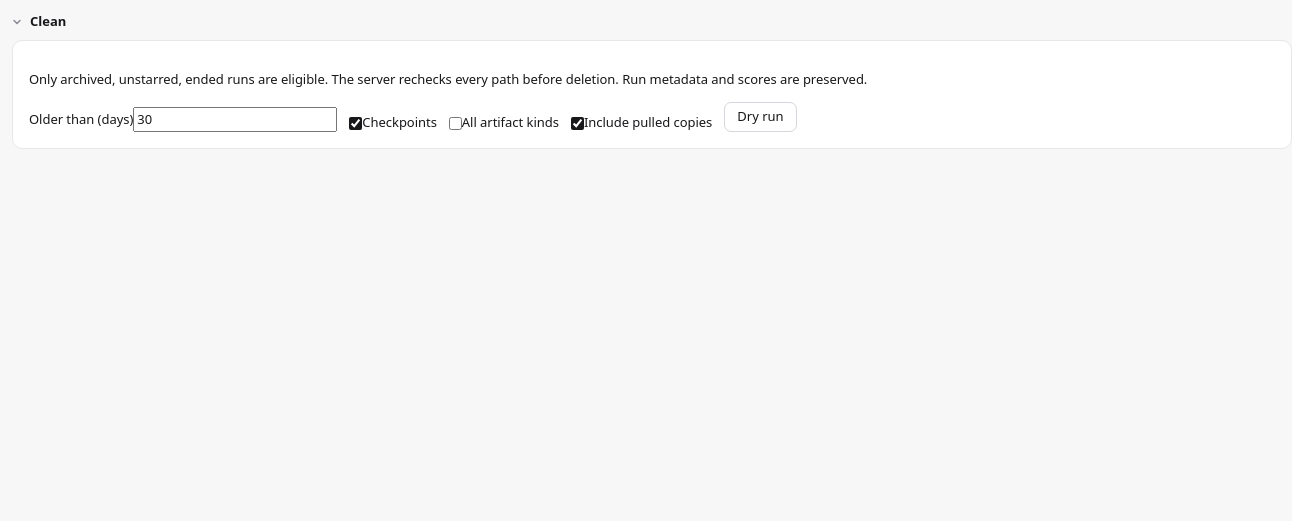
Test: expired and unsafe server plans cannot apply
The image size is (1292, 521).
What coordinates should you click on to do the following:
click the button "Dry run"
I would click on:
 (760, 117)
Its box is x1=724 y1=102 x2=797 y2=132.
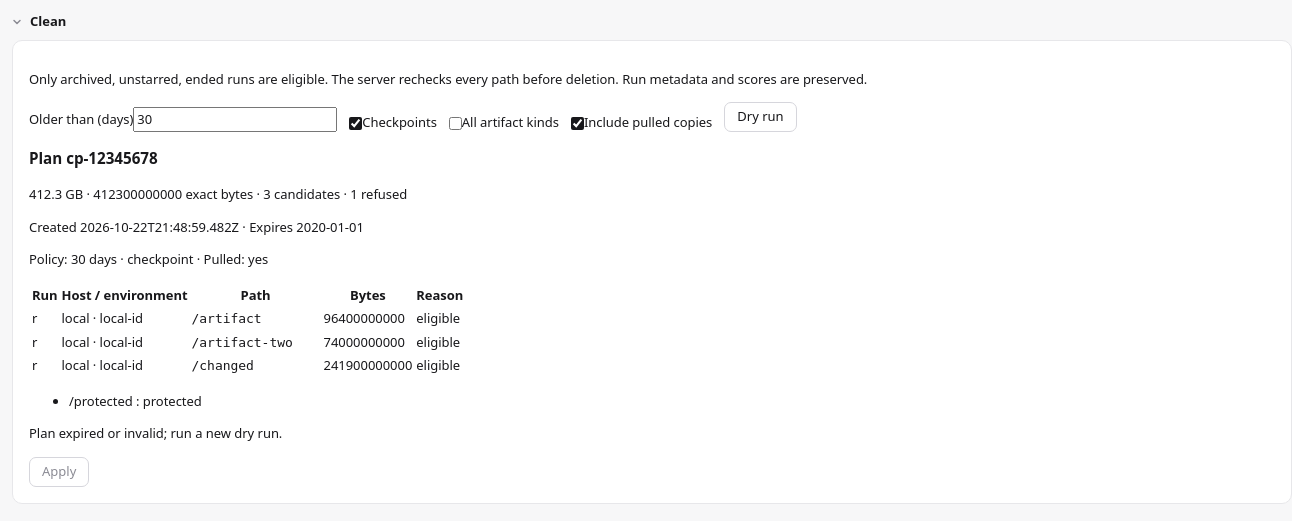
Now the button "Apply" is disabled, box x1=29 y1=457 x2=89 y2=487
